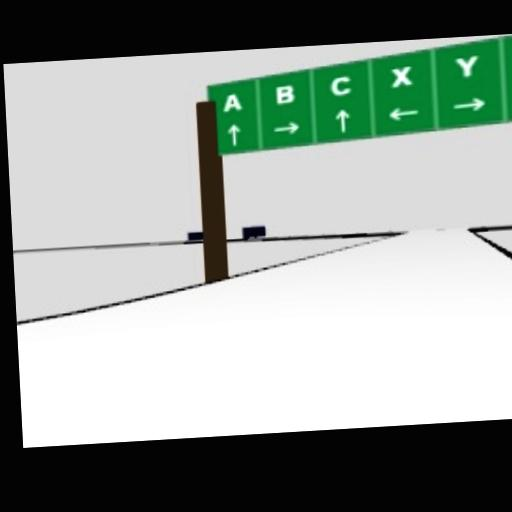A: (221, 93, 241, 112)
B: (273, 82, 294, 105)
C: (330, 74, 351, 96)
Left: (386, 106, 420, 122)
Right: (452, 97, 485, 113), (272, 122, 299, 135)
Straight: (334, 107, 351, 133), (226, 124, 241, 146)
X: (389, 65, 413, 88)
Y: (454, 53, 480, 78)
